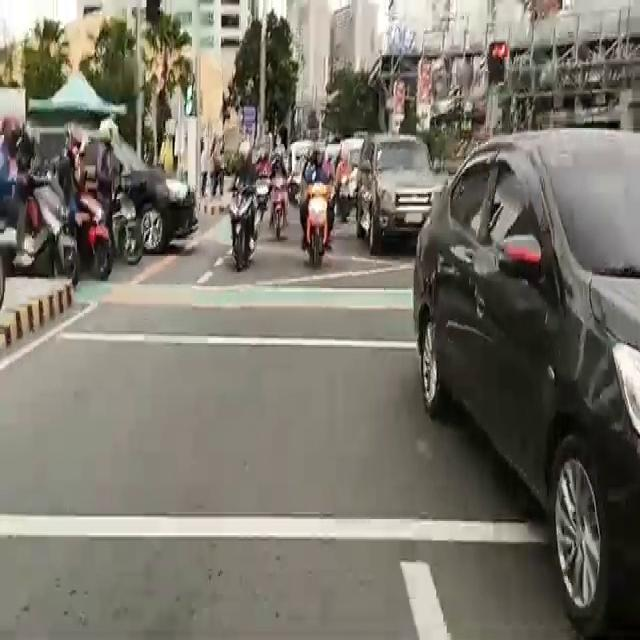car: (413, 133, 640, 568), (364, 132, 438, 249)
motorcycle: (0, 119, 67, 293), (68, 132, 110, 278), (226, 147, 260, 273), (303, 158, 335, 276), (270, 145, 290, 243)
